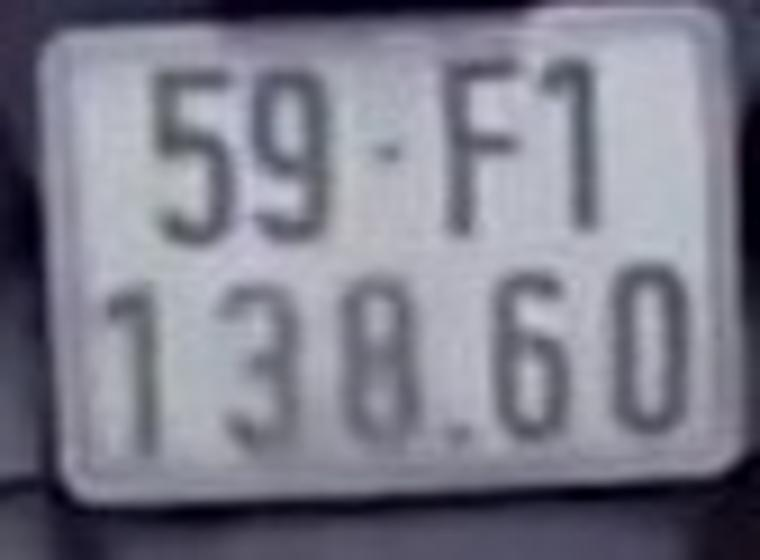-: (360, 127, 417, 167)
.: (437, 405, 482, 463)
0: (604, 262, 703, 442)
1: (96, 281, 182, 472), (543, 34, 613, 234)
3: (207, 279, 307, 456)
5: (143, 60, 242, 252)
6: (484, 265, 583, 441)
8: (334, 276, 430, 448)
9: (246, 56, 344, 248)
F: (428, 41, 533, 241)
